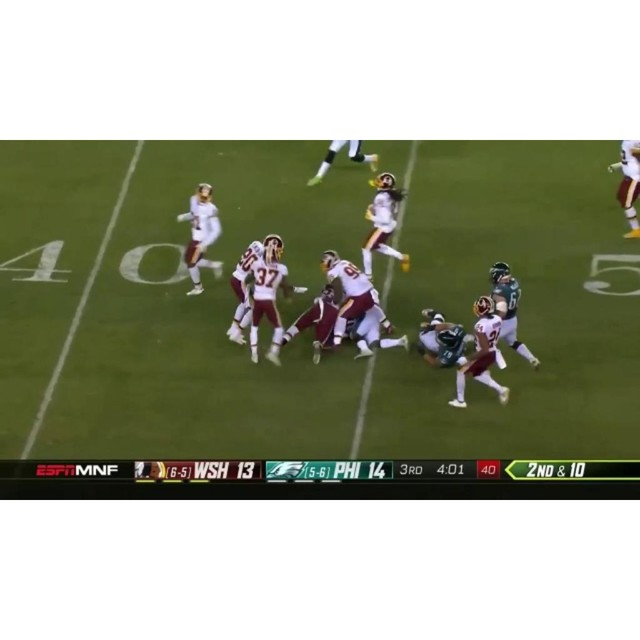american-football-player: (320, 248, 406, 360), (447, 295, 511, 409), (243, 238, 292, 369), (174, 183, 226, 297), (488, 264, 541, 375), (276, 283, 341, 364), (359, 175, 411, 275), (225, 238, 270, 345), (605, 141, 640, 238), (307, 141, 379, 187), (414, 316, 471, 371)
